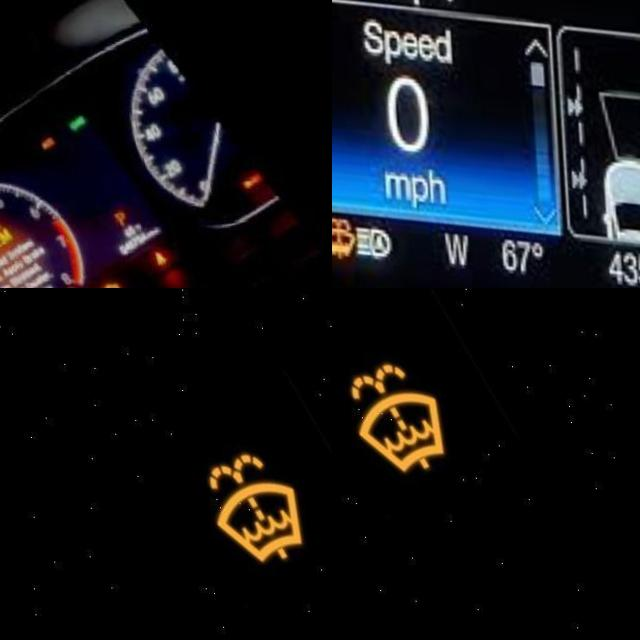Washer Fluid: (201, 441, 299, 558), (343, 351, 441, 468)
